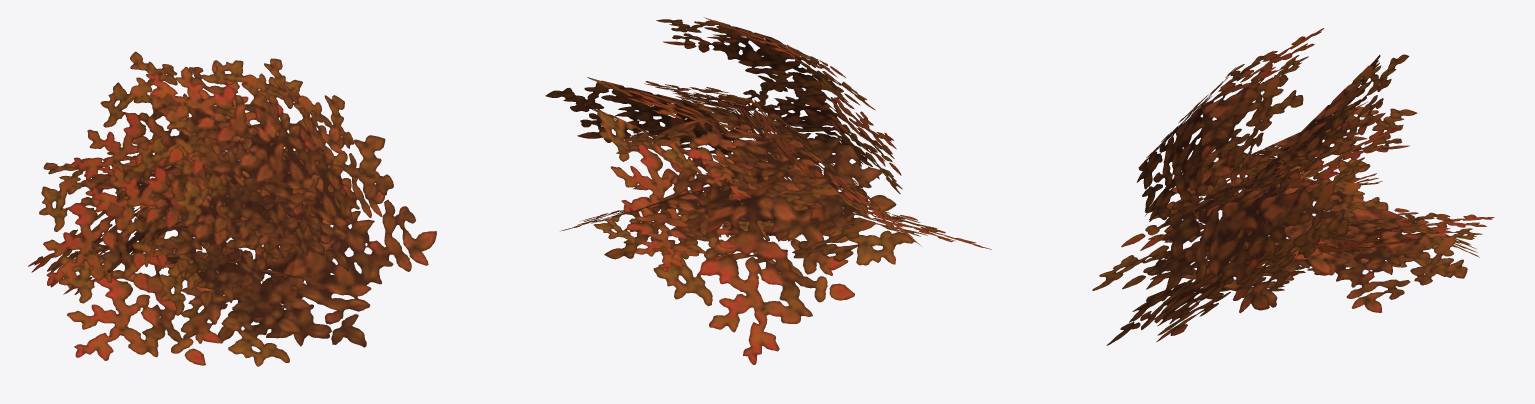
File: caocong01.FBX
3 renders of one model, left to right at view 1: azimuth 30°, elevation 25°; view 2: azimuth 150°, elevation 25°; view 3: azimuth 270°, elevation 25°, orthographic. The views are drawn at different scales.
Parts seen in each view (by area): view 1: hua10; view 2: hua10; view 3: hua10.
Boxes of the visible parts, x1=… form: hua10: x1=28, y1=51, x2=436, y2=366; hua10: x1=545, y1=17, x2=991, y2=364; hua10: x1=1092, y1=28, x2=1494, y2=345.
Size of the model in its own units: 92.44 by 54.89 by 76.46.
